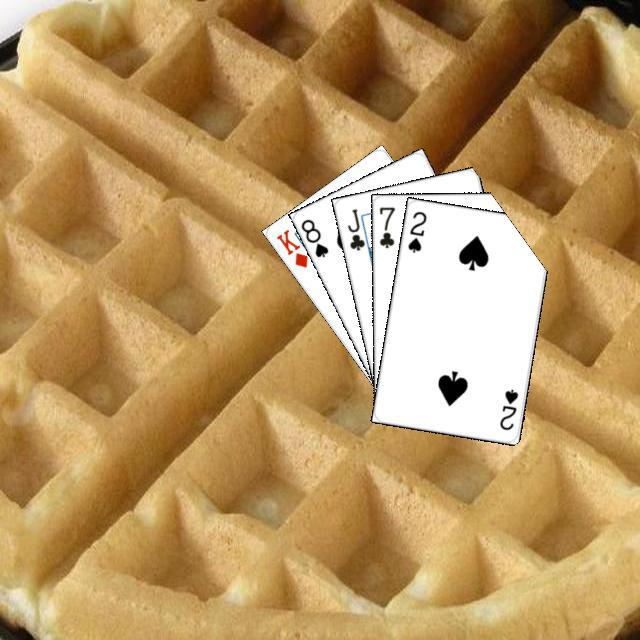2s: (403, 206, 428, 254), (495, 384, 520, 432)
7c: (374, 202, 397, 250)
8s: (296, 214, 330, 259)
Jc: (342, 204, 367, 252)
Kd: (271, 224, 310, 269)
